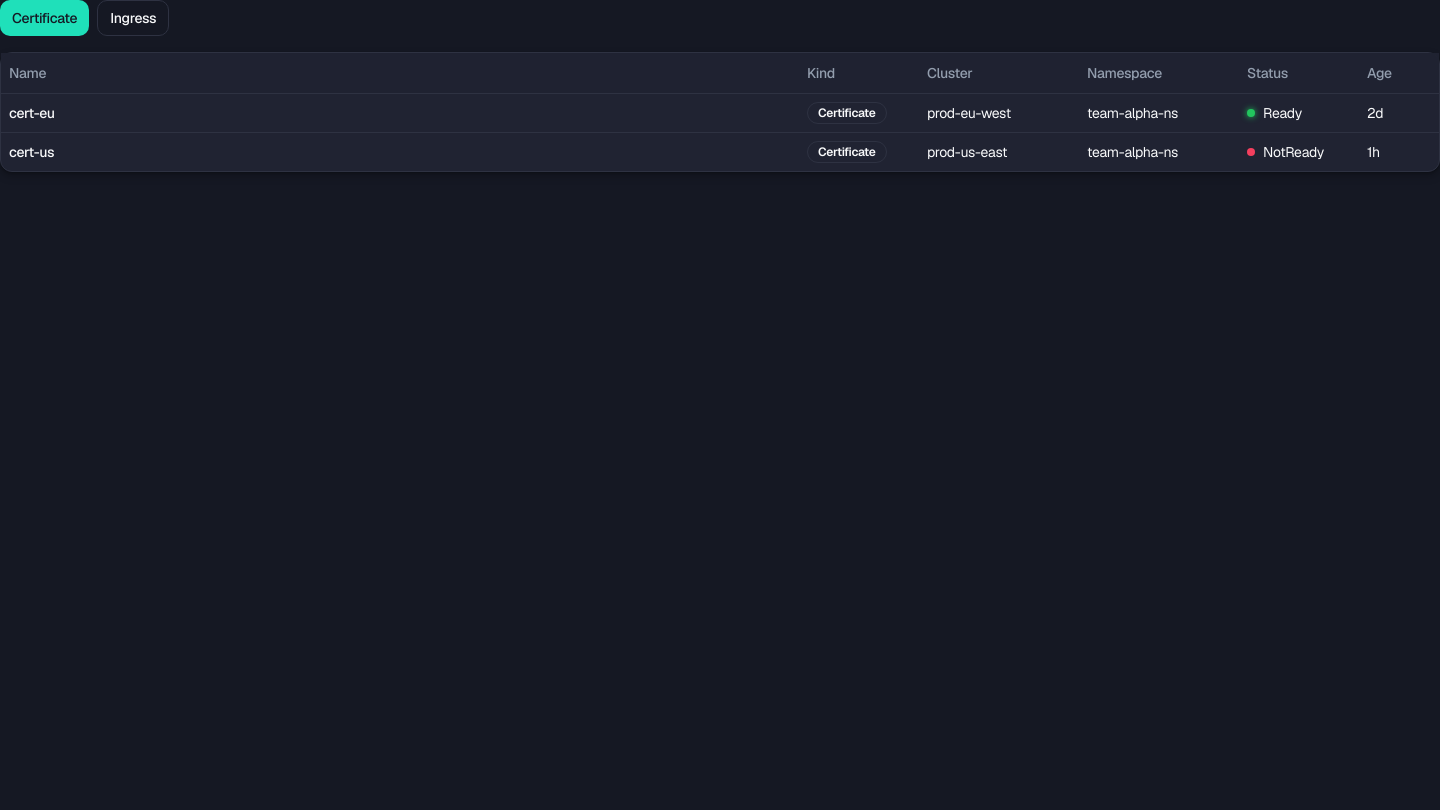
Test: ProjectResourcesTab › clicking a row opens side panel with resource details
// Click the first resource row
Click the text "cert-eu" at (720, 112), box [1,93,1439,132]
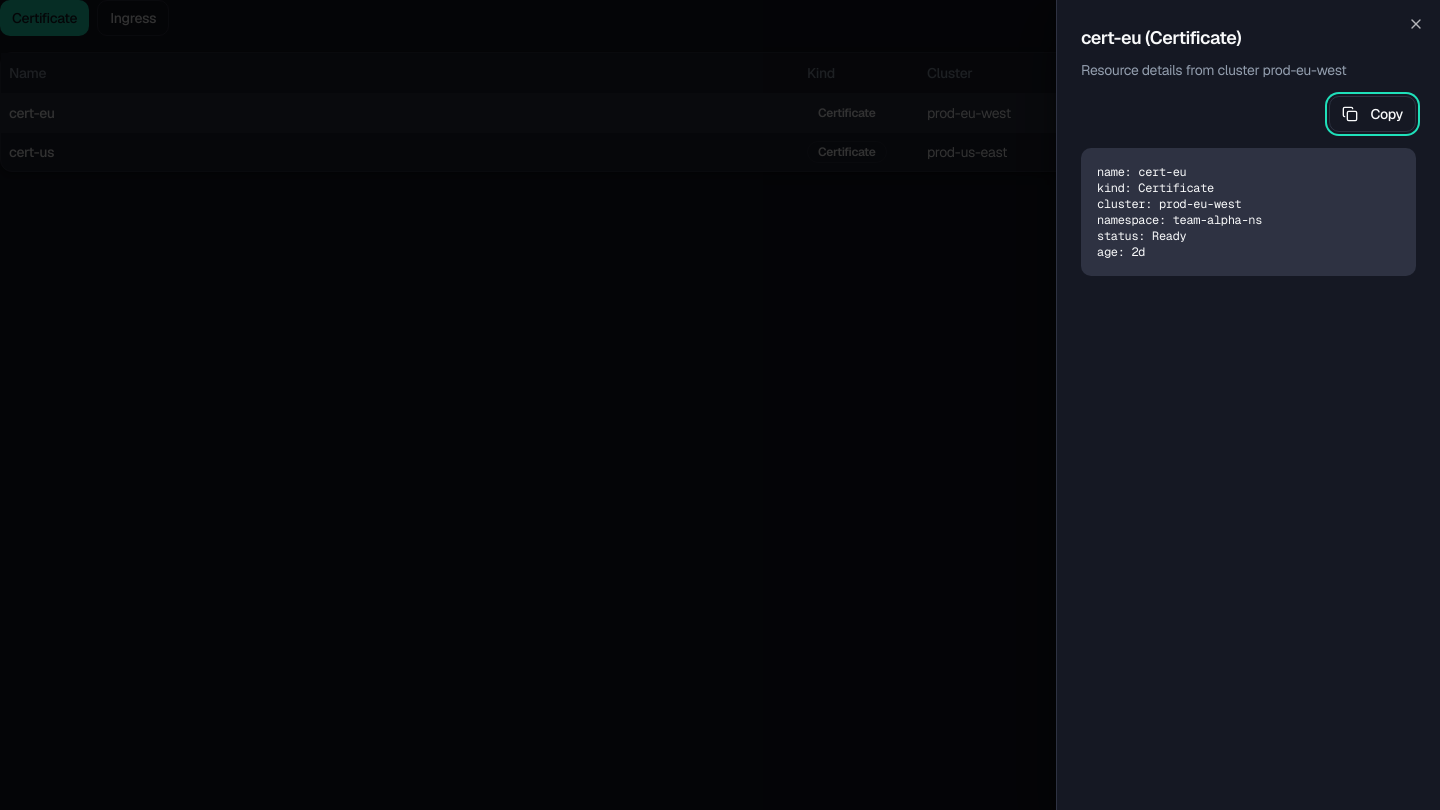
Expected: the heading "cert-eu (Certificate)" is shown, [1081,26,1241,49]
Expected: the text "name: cert-eu" is shown, [1097,164,1262,260]
